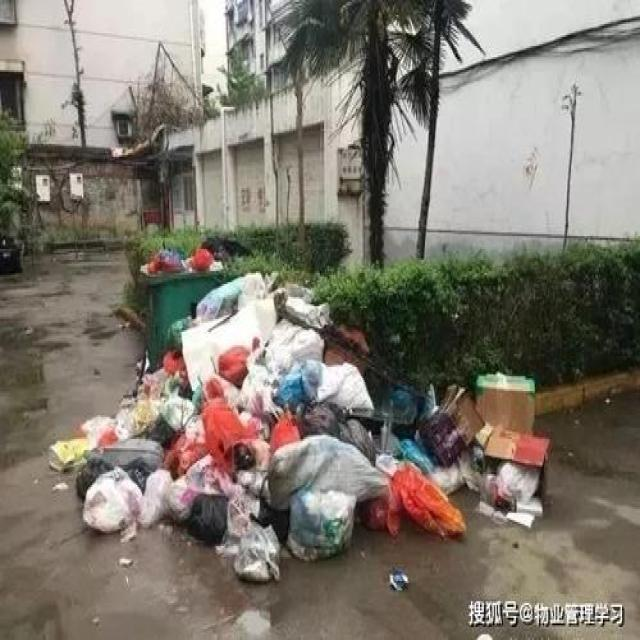garbage: (48, 269, 550, 590)
overflow: (138, 245, 215, 367)
